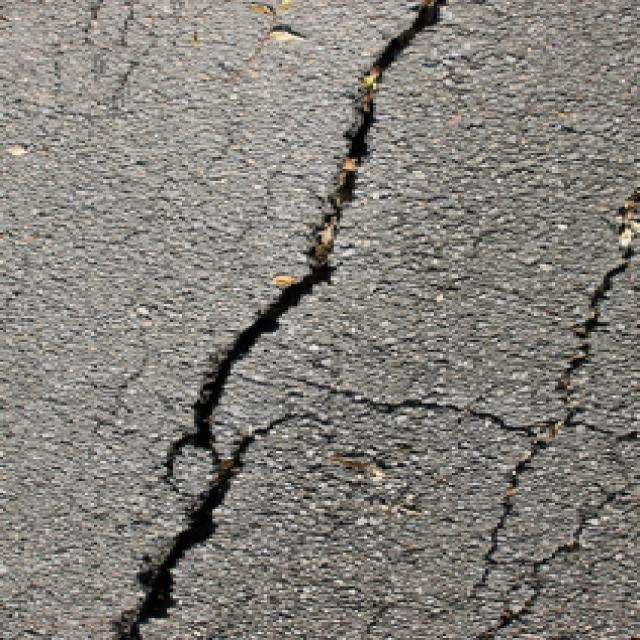branched cracks: (114, 0, 445, 639), (309, 189, 639, 639)
